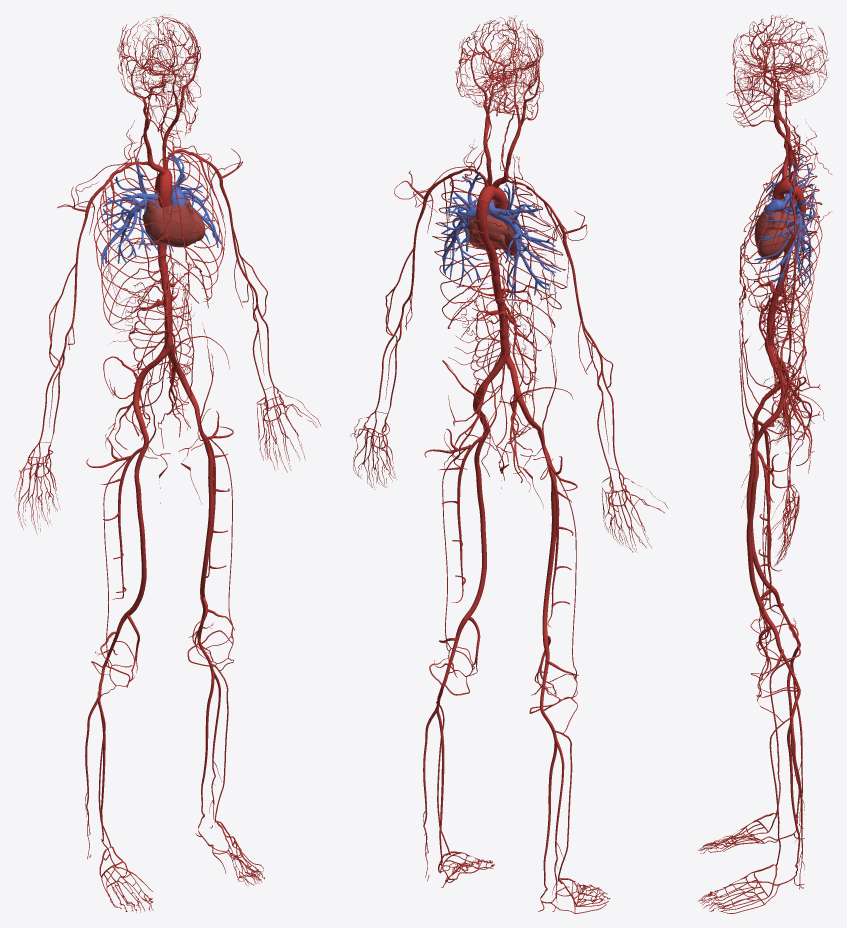
File: female-arterial.glb
3 views of the same model, side by side, from view 1: azimuth 30°, elevation 25°; view 2: azimuth 150°, elevation 25°; view 3: azimuth 270°, elevation 25° (orthographic). The views are drawn at different scales.
Visible parts, largest first — view 1: Posterior_intercostal_arteries_R, Femoral_artery_R, Right_ventricle, Femoral_artery_L, Posterior_intercostal_arteries_L, Right_atrium; view 2: Posterior_intercostal_arteries_R, Femoral_artery_L, Posterior_intercostal_arteries_L, Femoral_artery_R, Thoracic_aorta, Abdominal_aorta; view 3: Posterior_intercostal_arteries_L, Femoral_artery_L, Femoral_artery_R, Left_ventricle, Posterior_intercostal_arteries_R, Abdominal_aorta, Posterior_tibial_artery_L, Deep_femoral_artery_L, Fibular_artery_L, Brachial_artery_L, Posterior_tibial_artery_R, Aortic_arch (+6 smaller).
Boxes of the visible parts, x1,y1,x2,y2 form: Posterior_intercostal_arteries_R: [93, 167, 168, 329]; Femoral_artery_R: [124, 419, 148, 617]; Right_ventricle: [158, 204, 198, 247]; Femoral_artery_L: [194, 405, 213, 599]; Posterior_intercostal_arteries_L: [156, 158, 223, 308]; Right_atrium: [143, 198, 171, 245]; Posterior_intercostal_arteries_R: [479, 200, 567, 351]; Femoral_artery_L: [463, 415, 489, 620]; Posterior_intercostal_arteries_L: [432, 191, 494, 328]; Femoral_artery_R: [537, 428, 556, 638]; Thoracic_aorta: [476, 208, 499, 275]; Abdominal_aorta: [491, 273, 510, 354]; Posterior_intercostal_arteries_L: [741, 183, 822, 343]; Femoral_artery_L: [746, 423, 775, 629]; Femoral_artery_R: [746, 397, 775, 592]; Left_ventricle: [758, 225, 790, 259]; Posterior_intercostal_arteries_R: [742, 163, 822, 299]; Abdominal_aorta: [764, 263, 788, 345]; Posterior_tibial_artery_L: [780, 721, 800, 884]; Deep_femoral_artery_L: [756, 449, 781, 616]; Fibular_artery_L: [790, 721, 804, 889]; Brachial_artery_L: [779, 224, 796, 378]; Posterior_tibial_artery_R: [780, 666, 799, 839]; Aortic_arch: [773, 178, 803, 201].
Size of the model in its own units: 0.5778 by 1.56 by 0.2217.
